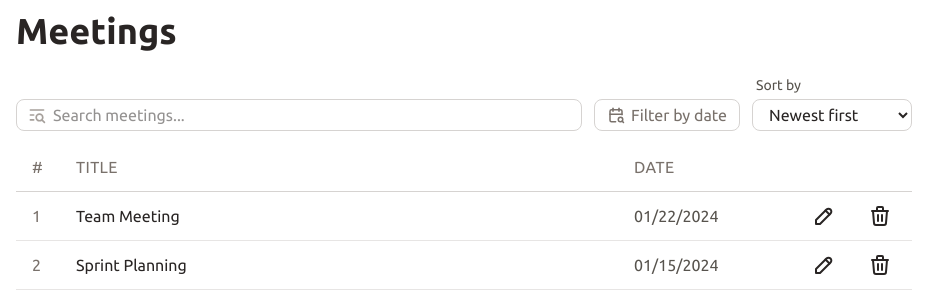
Test case: MeetingList – search › typing in the search input filters the meeting list
Type "sprint" into the field with placeholder "Search meetings..." at (299, 115), box [16,99,582,131]
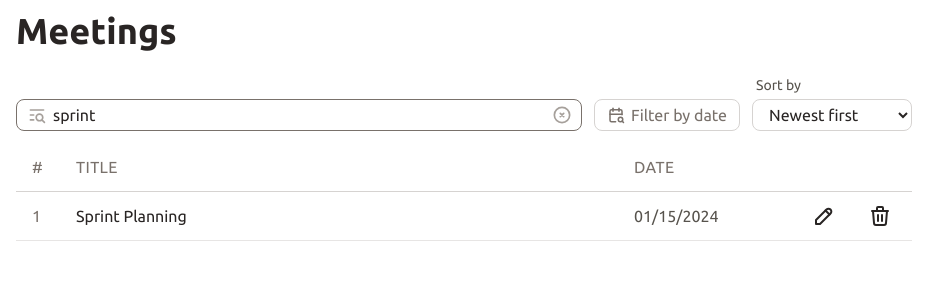
Expected: the link "Sprint Planning" is shown, [76,207,187,225]
Now the link "Team Meeting" is gone
